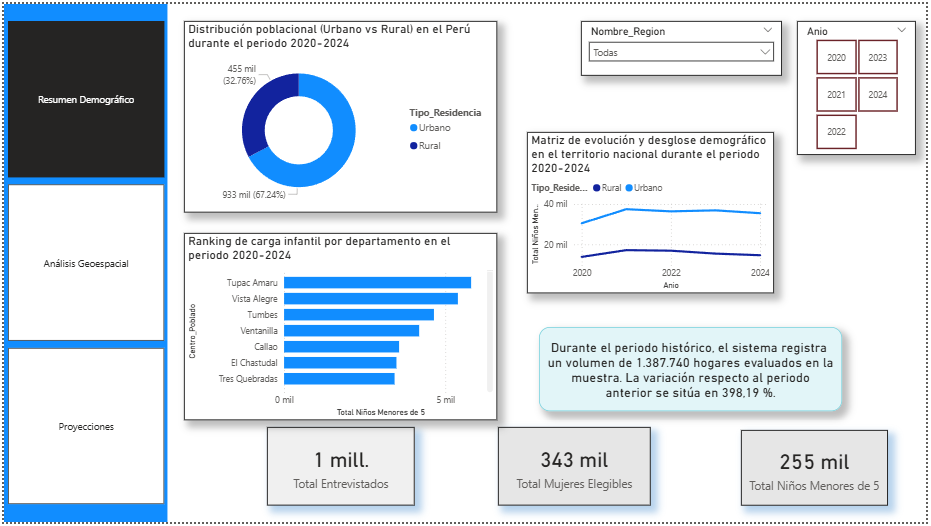

The dashboard page shown, as its layout file describes it:
{"tool":"powerbi","page":{"name":"Resumen Demográfico","canvas":[1280,720],"ordinal":0},"visuals":[{"type":"slicer","fields":{"Values":["Dim_Region.Nombre_Region"]},"box":[801,23.4,279.4,75.7],"z":0},{"type":"card","fields":{"Values":["Fact_ENDES.Total Entrevistados"]},"box":[364.7,587.7,205.1,108.7],"z":1000},{"type":"card","fields":{"Values":["Fact_ENDES.Total Mujeres Elegibles"]},"box":[685.4,587.7,212,108.7],"z":2000},{"type":"card","fields":{"Values":["Fact_ENDES.Total Niños Menores de 5"]},"box":[1024,591.8,203.7,104.6],"z":3000},{"type":"donutChart","fields":{"Category":["Dim_Zona.Tipo_Residencia"],"Y":["Fact_ENDES.Total Entrevistados"]},"box":[250.5,23.4,434.9,265.6],"z":4000},{"type":"clusteredBarChart","fields":{"Category":["Dim_Ubicacion.Centro_Poblado"],"Y":["Fact_ENDES.Total Niños Menores de 5"]},"box":[250.5,317.9,434.9,260.1],"z":5000},{"type":"shape","box":[0,0,227.1,719.8],"z":6000},{"type":"pageNavigator","box":[5.5,23.4,217.5,673],"z":7000},{"type":"slicer","fields":{"Values":["Fact_ENDES.Anio"]},"box":[1101.1,23.4,165.2,185.8],"z":8000},{"type":"card","fields":{"Values":["Fact_ENDES.Texto Narrativo Manual"]},"box":[743.2,448.7,421.2,117],"z":9000},{"type":"lineChart","fields":{"Category":["Fact_ENDES.Anio"],"Y":["Fact_ENDES.Total Niños Menores de 5"],"Series":["Dim_Zona.Tipo_Residencia"]},"box":[726.7,177.5,342.7,224.3],"z":10000}]}

Visuals, with their boxes in screenshot pixels (x1, y1, x2, y2), scaled from the page's 1280x720 canvas onto the 931x526 screenshot:
slicer - Dim_Region.Nombre_Region: 583 17 786 72
card - Fact_ENDES.Total Entrevistados: 265 429 414 509
card - Fact_ENDES.Total Mujeres Elegibles: 499 429 653 509
card - Fact_ENDES.Total Niños Menores de 5: 745 432 893 509
donutChart - Dim_Zona.Tipo_Residencia x Fact_ENDES.Total Entrevistados: 182 17 499 211
clusteredBarChart - Dim_Ubicacion.Centro_Poblado x Fact_ENDES.Total Niños Menores de 5: 182 232 499 422
shape: 0 0 165 525
pageNavigator: 4 17 162 509
slicer - Fact_ENDES.Anio: 801 17 921 153
card - Fact_ENDES.Texto Narrativo Manual: 541 328 847 413
lineChart - Fact_ENDES.Anio x Fact_ENDES.Total Niños Menores de 5: 529 130 778 294
